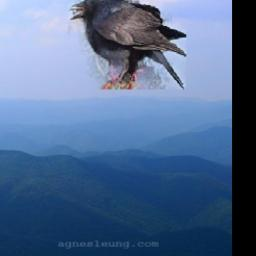Crow: (69, 0, 187, 91)
